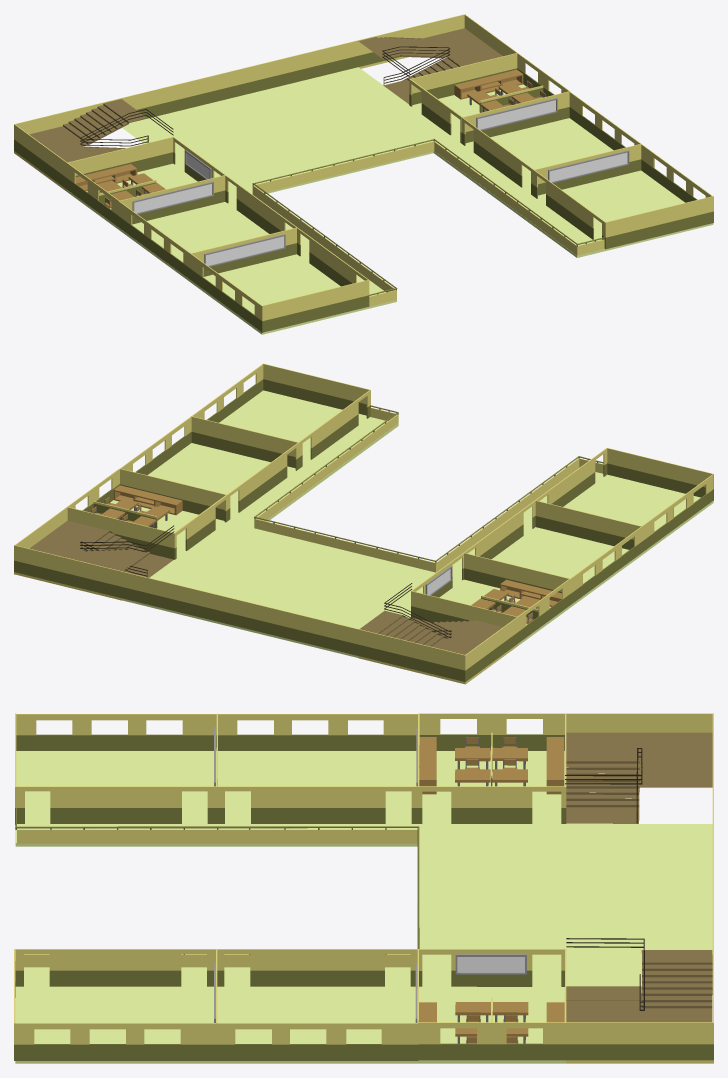
File: 2nd_FloorSCHOOL.fbx
3 renders of one model, top to bottom at view 1: azimuth 30°, elevation 25°; view 2: azimuth 150°, elevation 25°; view 3: azimuth 270°, elevation 25°, orthographic. The views are drawn at different scales.
Visible parts, largest first — view 1: FlooR, Floor, Floor.001, backWall.001, railing (×2), stairsRight.001, stairsLeft.001, rightWall.002, Cube, faculty2, frontWall.001, frontWall (+16 smaller); view 2: FlooR, backWall.001, Floor, Floor.001, railing (×2), stairsRight.001, stairsLeft.001, Cube, rightWall.002, faculty2, Cube.002, leftWall.001 (+12 smaller); view 3: FlooR, Floor.001, Floor, rightWall, Cube.002, rightWall.002, Cube, rightWall.001, stairsLeft.001, railing (×2), stairsRight.001, leftWall.001 (+6 smaller).
Part boxes in pixels (x1,y1,x2,y2): FlooR: (66, 67, 526, 229); Floor: (433, 118, 713, 257); Floor.001: (119, 199, 396, 334); backWall.001: (14, 14, 465, 134); railing (×2): (252, 139, 604, 306); stairsRight.001: (358, 28, 502, 104); stairsLeft.001: (29, 99, 173, 162); rightWall.002: (119, 201, 263, 332); Cube: (462, 117, 606, 249); faculty2: (409, 53, 517, 143); frontWall.001: (261, 280, 369, 332); frontWall: (606, 196, 713, 248); FlooR: (110, 500, 570, 657); backWall.001: (14, 545, 465, 684); Floor: (148, 390, 398, 527); Floor.001: (452, 472, 713, 607); railing (×2): (254, 405, 603, 572); stairsRight.001: (29, 520, 174, 577); stairsLeft.001: (359, 583, 502, 654); Cube: (227, 390, 370, 521); rightWall.002: (570, 474, 713, 604); faculty2: (67, 495, 227, 559); Cube.002: (464, 448, 607, 559); leftWall.001: (465, 578, 570, 684); FlooR: (418, 751, 712, 1063); Floor.001: (15, 751, 418, 846); Floor: (15, 967, 418, 1063); rightWall: (14, 1023, 418, 1060); Cube.002: (15, 786, 418, 824); rightWall.002: (16, 714, 417, 750); Cube: (14, 949, 417, 986); rightWall.001: (418, 1022, 713, 1063); stairsLeft.001: (565, 732, 712, 823); railing (×2): (15, 808, 419, 967); stairsRight.001: (566, 938, 712, 1022); leftWall.001: (418, 713, 712, 750).
Bounding box in the file's own units: 20049 × 1569 × 19134.
